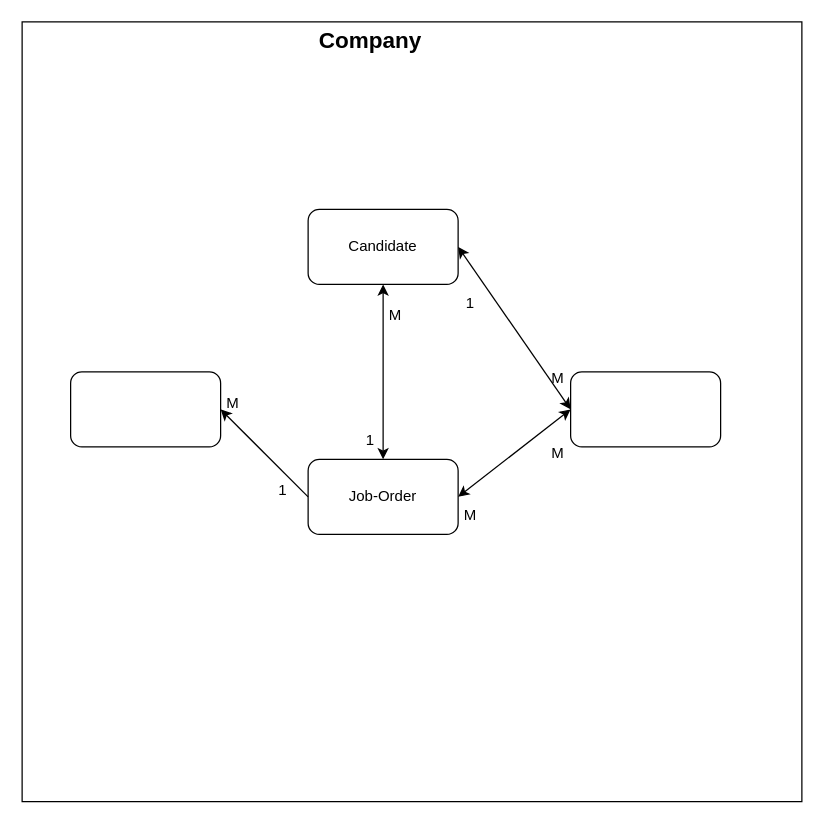
This 824x824 diagram has some shape labels left out. The shapes that lost their labels are listed below. From the top down, each one's centre as x and y in pixels, then its label:
At (145,409): "Worker".
At (645,409): "Branch".
